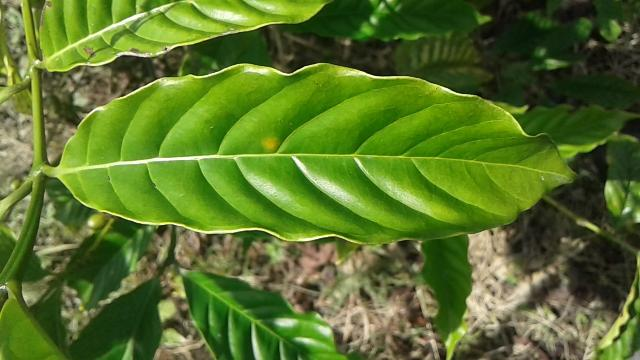rust_level_1: (56, 54, 588, 246)
